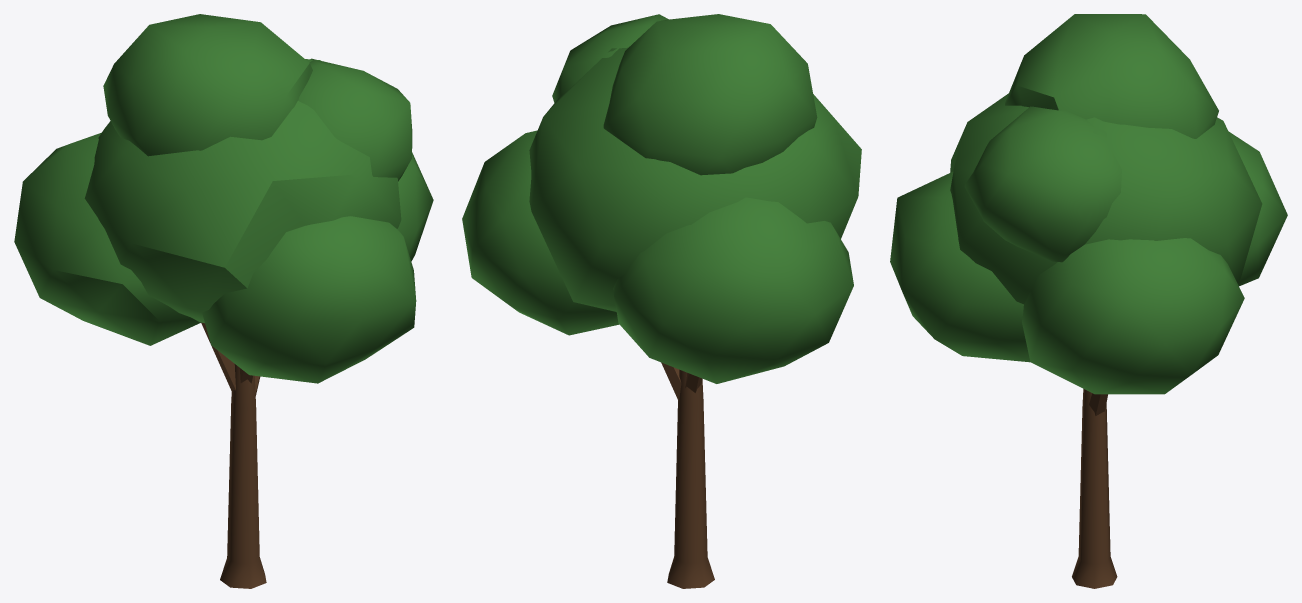
The model's file is tree_round.glb.
3 renders of one model, left to right at view 1: azimuth 30°, elevation 25°; view 2: azimuth 150°, elevation 25°; view 3: azimuth 270°, elevation 25°, orthographic. The views are drawn at different scales.
Visible parts, largest first — view 1: TreeRound; view 2: TreeRound; view 3: TreeRound.
Part boxes in pixels (x1=…): TreeRound: x1=14, y1=14, x2=433, y2=588; TreeRound: x1=462, y1=14, x2=861, y2=588; TreeRound: x1=890, y1=14, x2=1287, y2=588.
Bounding box in the file's own units: 5.21 × 7.53 × 5.09.
